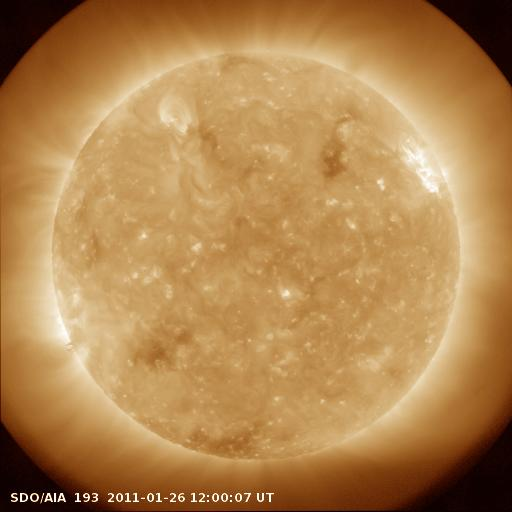coronal_hole: (188, 426, 260, 465), (314, 115, 352, 180)
